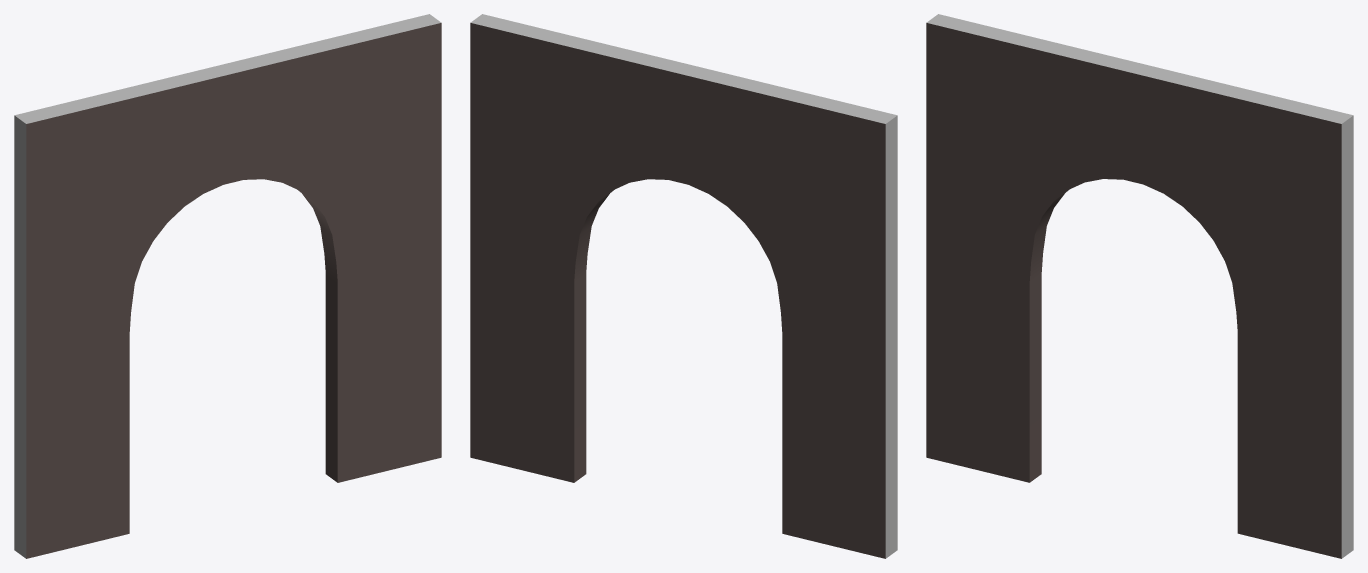
The model's file is wall_075.fbx.
3 views of the same model, side by side, from view 1: azimuth 30°, elevation 25°; view 2: azimuth 150°, elevation 25°; view 3: azimuth 330°, elevation 25° (orthographic).
Visible parts, largest first — view 1: wall_075; view 2: wall_075; view 3: wall_075.
Part boxes in pixels (x1,y1,x2,y2): wall_075: [14, 14, 441, 558]; wall_075: [470, 14, 897, 558]; wall_075: [926, 14, 1353, 558].
Size of the model in its own units: 400 by 20 by 400.
